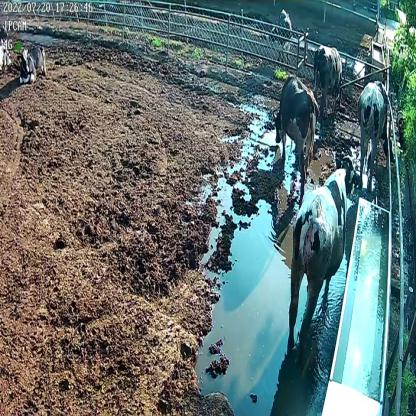cow: (287, 152, 362, 349), (271, 74, 320, 204), (354, 80, 396, 192), (313, 43, 344, 120), (17, 42, 50, 86)
